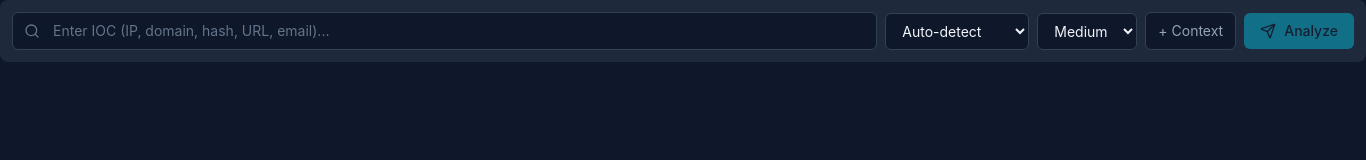
Test: IOCInputBar › shows validation error for unrecognized IOC format
Type "not-an-ioc" into the field with test id "ioc-value-input" at (445, 31), box x1=12 y1=12 x2=877 y2=50
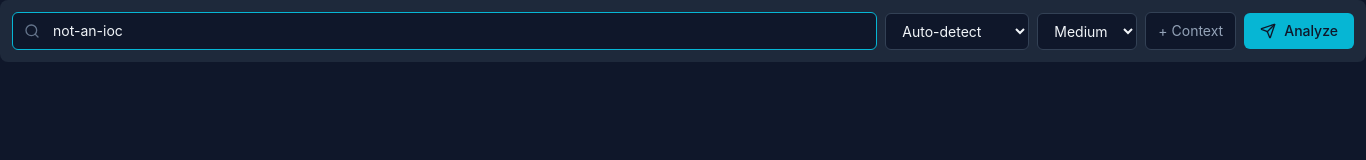
Click the button with test id "analyze-button" at (1299, 31), box x1=1244 y1=13 x2=1354 y2=49
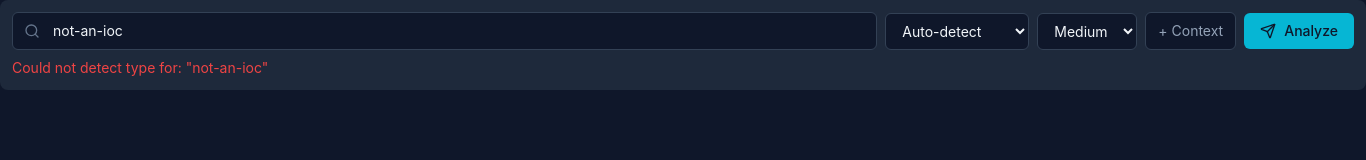
Check: the text "Could not detect type for: \"not-an-ioc\"" is shown, box x1=12 y1=59 x2=268 y2=76
